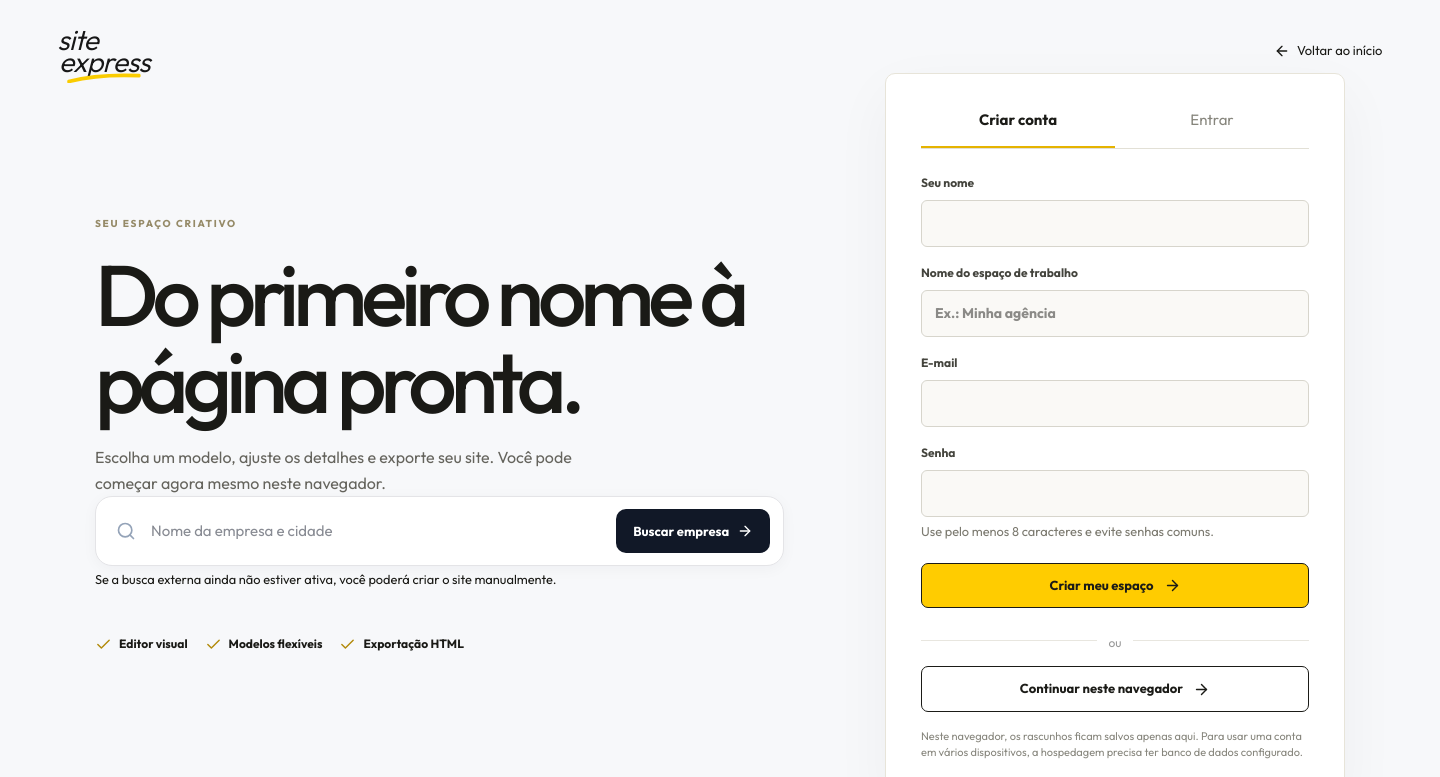
Test: studio workflow › suggests matching businesses and opens a focused confirmation before the editor
Click the button "Continuar neste navegador" at (1115, 689), box [921,666,1309,712]
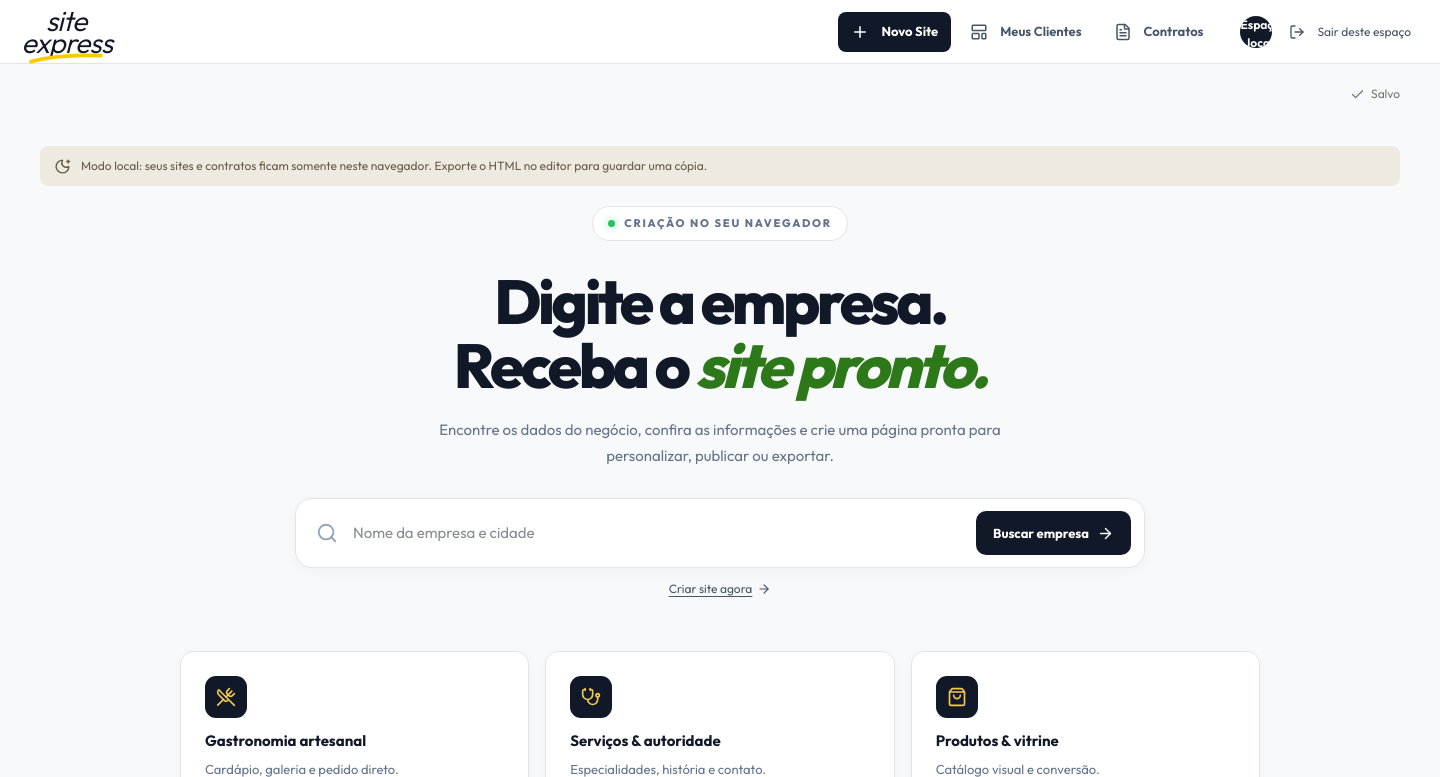
Type "Padaria Central" into the field labelled "Nome da empresa e cidade" at (657, 533), box [353,522,961,545]
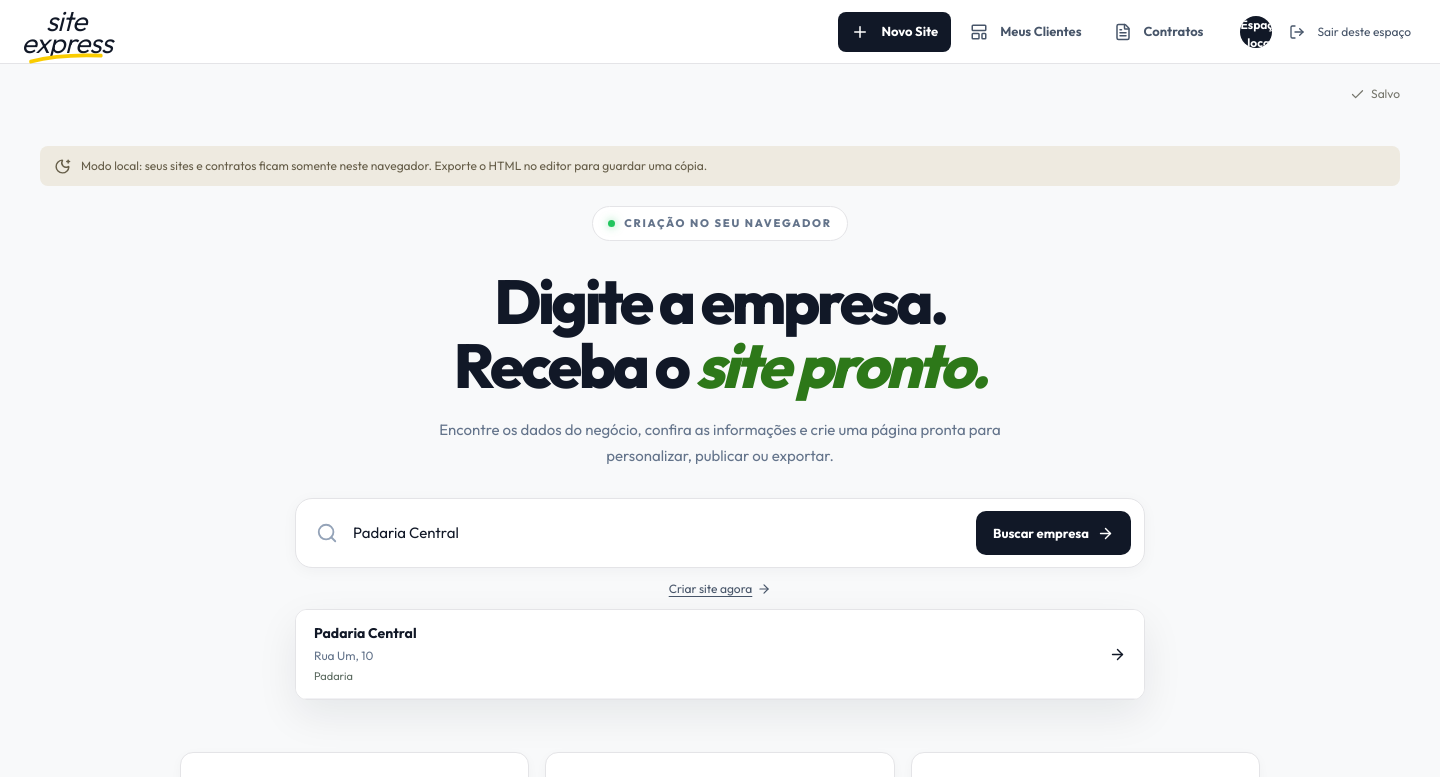
Click the button "Padaria Central Rua Um, 10 Padaria" at (365, 633), box [296,610,1144,699]
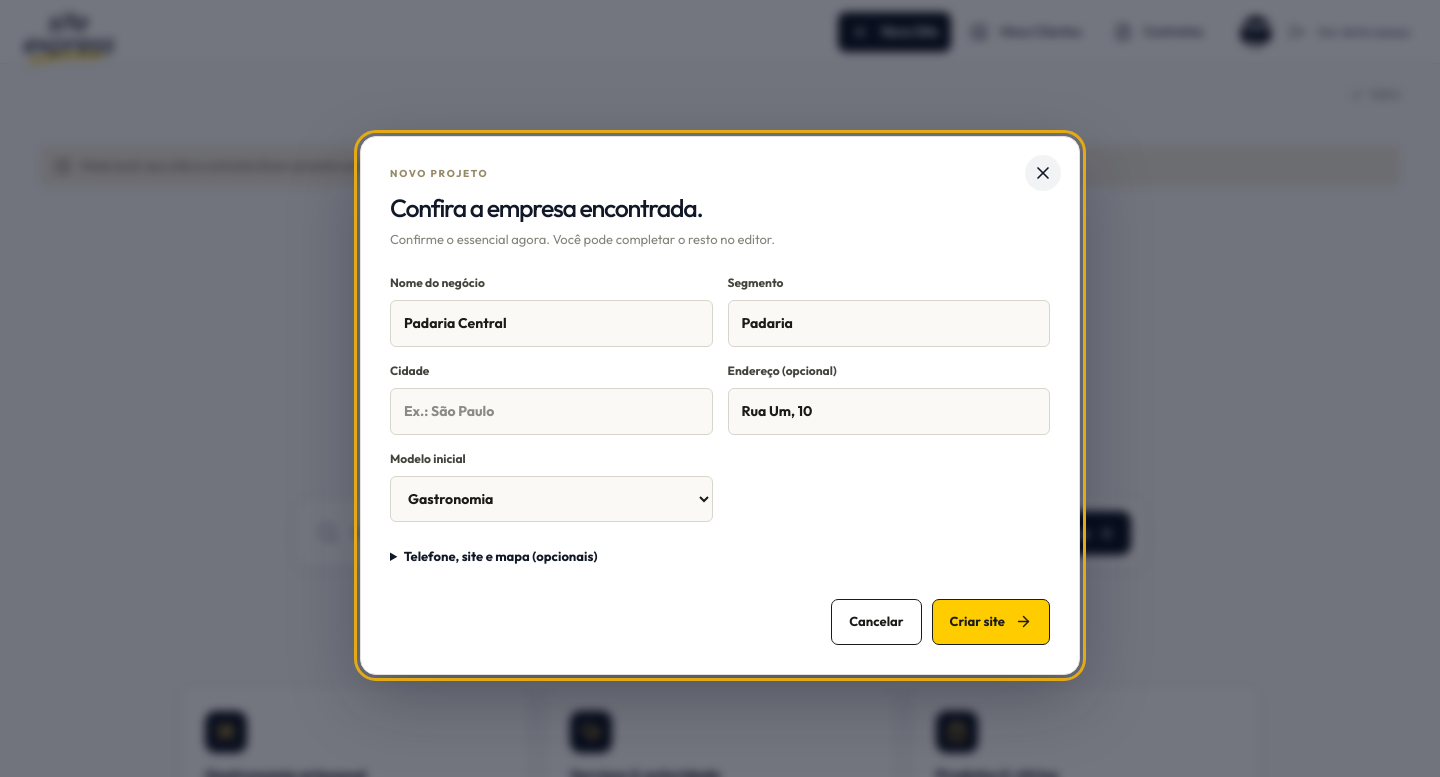
expect the dialog named "criar novo site" does not show "Buscar empresa cadastrada": met, box [360,136,1080,674]
expect the heading "Confira a empresa encontrada." is shown: met, box [390,192,702,224]
